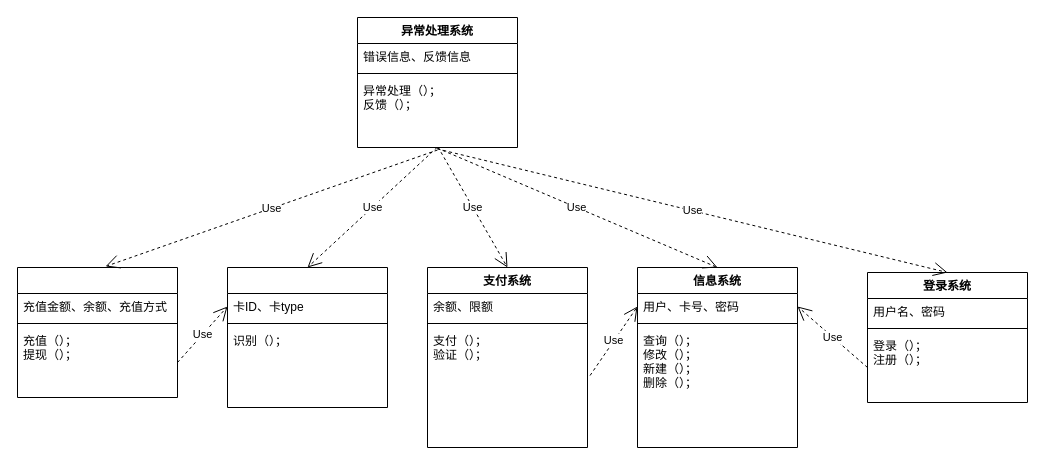
Some shapes in this 1045 by 468 pixel diagram are drawn without their labels. Each missing label, with the box of its shape:
充值系统: (16, 266, 178, 398)
识别系统: (226, 266, 388, 408)
